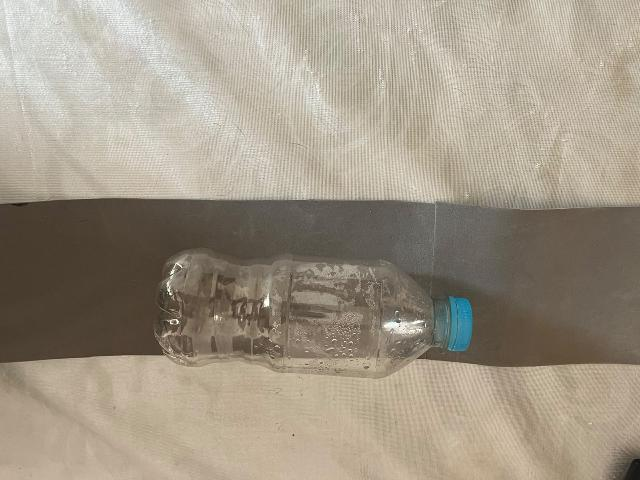PET: (115, 207, 570, 443)
